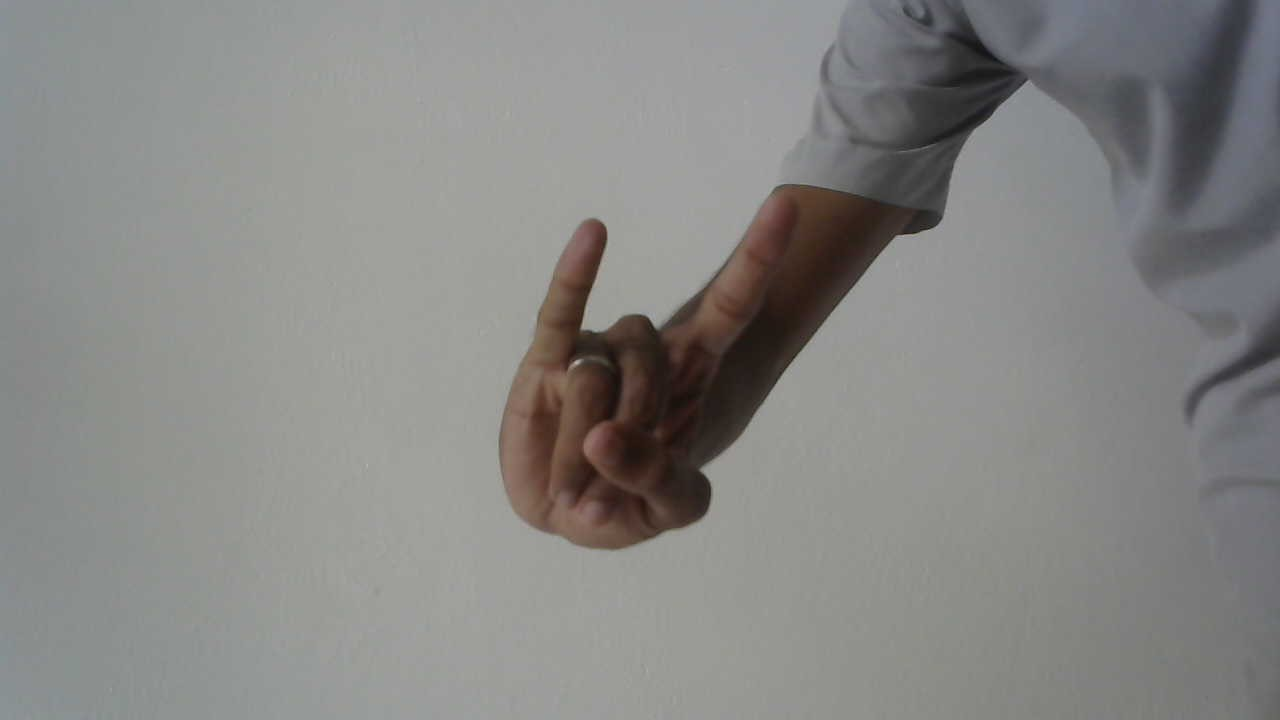iloveyou: (490, 187, 806, 557)
